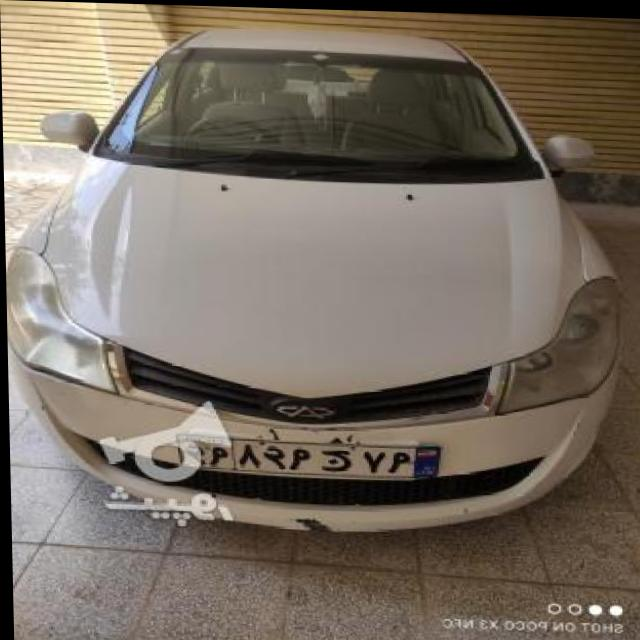licence: (182, 429, 441, 476)
